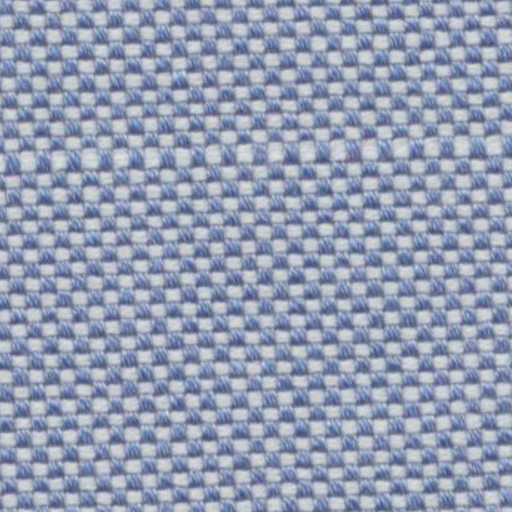TuoSha: (12, 107, 492, 206)
